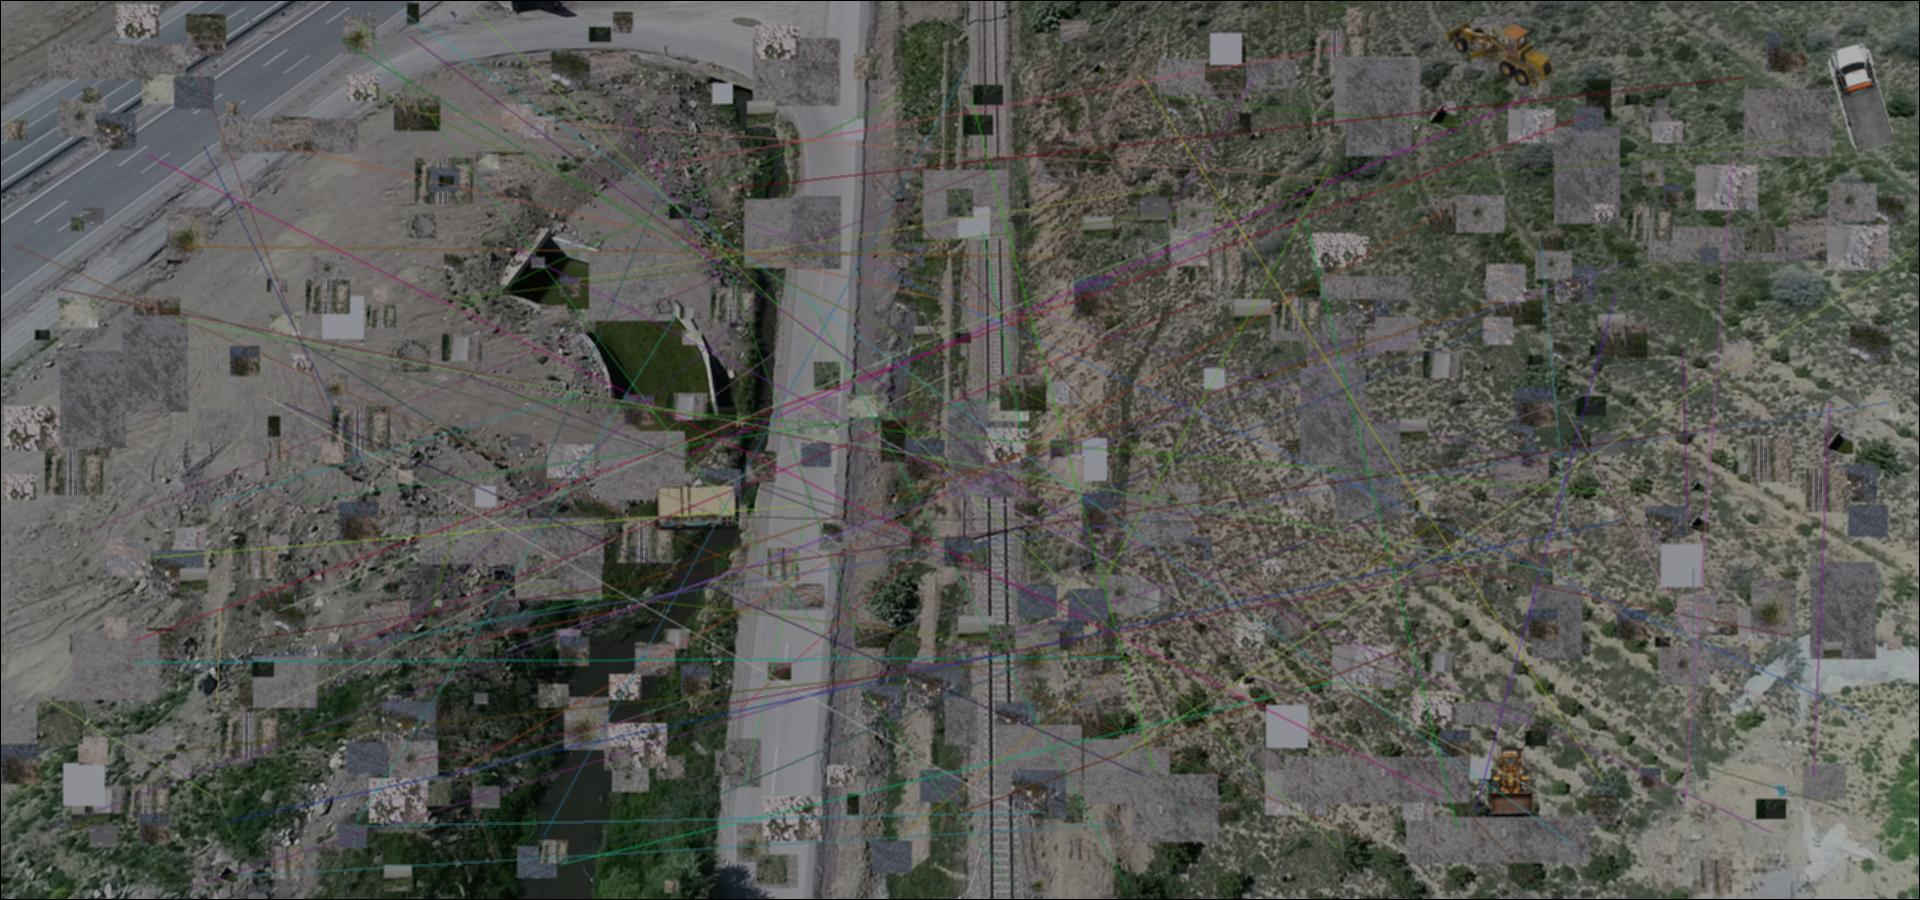arac: (1444, 18, 1559, 91), (1827, 43, 1898, 154), (651, 485, 740, 530), (1487, 744, 1536, 820)
